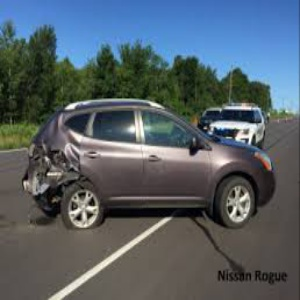bumper: (18, 152, 63, 213)
